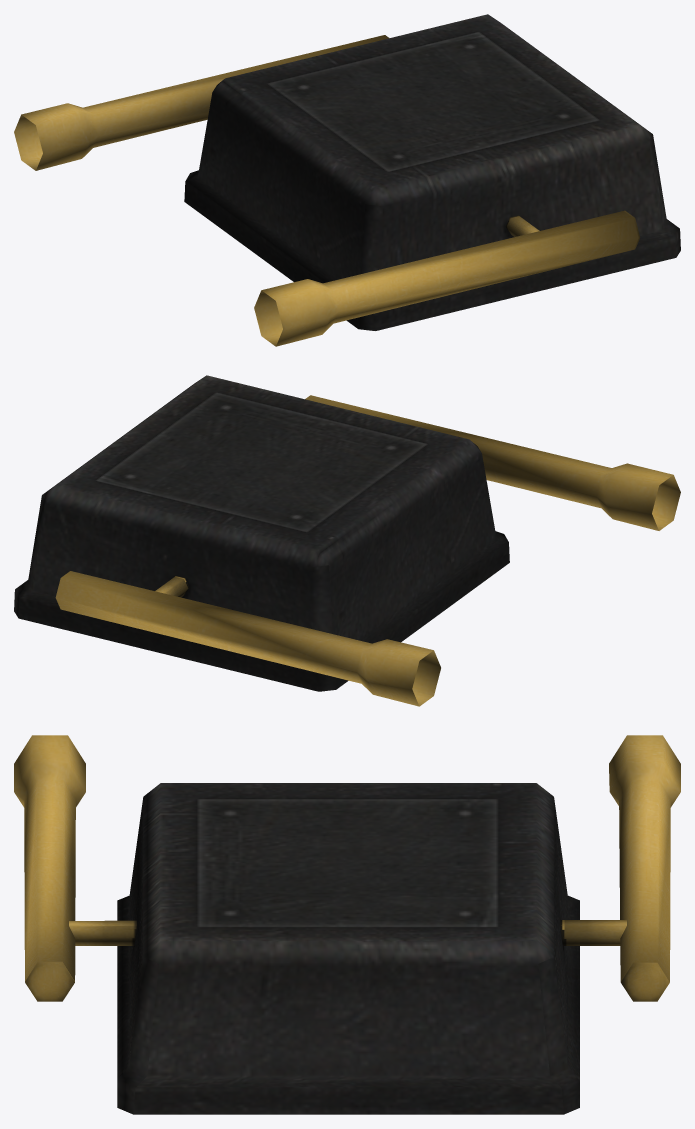
The model's file is pedcrossing.fbx.
3 renders of one model, top to bottom at view 1: azimuth 30°, elevation 25°; view 2: azimuth 150°, elevation 25°; view 3: azimuth 270°, elevation 25°, orthographic. The views are drawn at different scales.
Parts seen in each view (by area): view 1: pedcrossing; view 2: pedcrossing; view 3: pedcrossing.
Part boxes in pixels (<box>): pedcrossing: <box>14,14,680,346</box>; pedcrossing: <box>14,375,680,706</box>; pedcrossing: <box>14,735,680,1114</box>.
Size of the model in its own units: 0.814 by 0.217 by 0.851.
